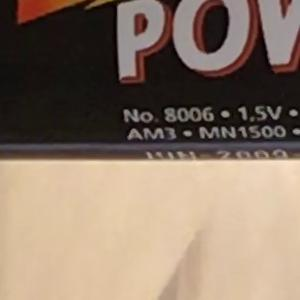1,5V: (229, 97, 291, 129)
